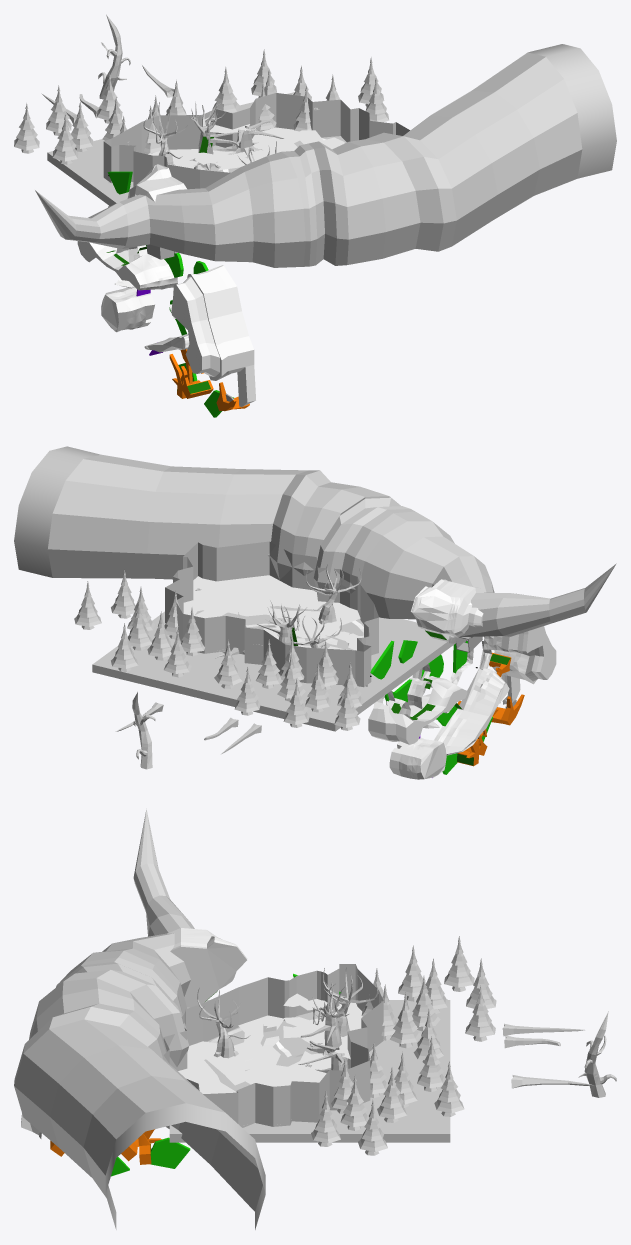
Rendered from Terrain_Modif_08.fbx.
The picture shows the model from 3 angles, top to bottom: view 1: azimuth 30°, elevation 25°; view 2: azimuth 150°, elevation 25°; view 3: azimuth 270°, elevation 25°; orthographic projection. The views are drawn at different scales.
Parts seen in each view (by area): view 1: Grosse racine, Terrain__tier_1_, Plane001, sol, Box001, Bush_01, Cone020, Cone019, Arbre_002, Arbre_01, Cone018, Cone022 (+2 smaller); view 2: Grosse racine, Terrain__tier_1_, Plane001, Box001, sol, Arbre_01 (×2), Bush_01, Cone016, Cone011, Cone007, Cone006, Cone020 (+12 smaller); view 3: Grosse racine, Plane001, Box001, sol, Terrain__tier_1_, Arbre_01 (×2), Bush_01, GZ_A_7, Cone023, Cone020, Cone010, Cone015 (+14 smaller).
Boxes of the visible parts, x1,y1,x2,y2 form: Grosse racine: (35, 44, 616, 267); Terrain__tier_1_: (77, 164, 255, 406); Plane001: (103, 93, 409, 189); sol: (148, 124, 344, 172); Box001: (47, 92, 346, 253); Bush_01: (98, 14, 130, 99); Cone020: (14, 103, 39, 153); Cone019: (52, 114, 78, 164); Arbre_002: (143, 102, 187, 164); Arbre_01: (189, 101, 225, 170); Cone018: (71, 101, 93, 152); Cone022: (46, 85, 71, 135); Grosse racine: (14, 446, 616, 637); Terrain__tier_1_: (366, 579, 556, 779); Plane001: (165, 541, 378, 687); Box001: (92, 606, 455, 731); sol: (183, 575, 363, 650); Arbre_01 (×2): (259, 564, 361, 666); Bush_01: (132, 692, 155, 769); Cone016: (74, 581, 101, 629); Cone011: (164, 628, 191, 677); Cone007: (214, 639, 242, 688); Cone006: (256, 639, 281, 688); Cone020: (334, 681, 360, 730); Grosse racine: (14, 808, 265, 1229); Plane001: (163, 964, 383, 1127); Box001: (169, 1000, 450, 1142); sol: (178, 993, 362, 1093); Terrain__tier_1_: (21, 928, 247, 1138); Arbre_01 (×2): (197, 981, 348, 1058); Bush_01: (578, 1011, 616, 1097); GZ_A_7: (150, 1137, 190, 1168); Cone023: (465, 985, 495, 1041); Cone020: (444, 936, 474, 991); Cone010: (377, 1067, 406, 1122); Cone015: (311, 1091, 340, 1146).
Size of the model in its own units: 38473 by 16620 by 32345.
